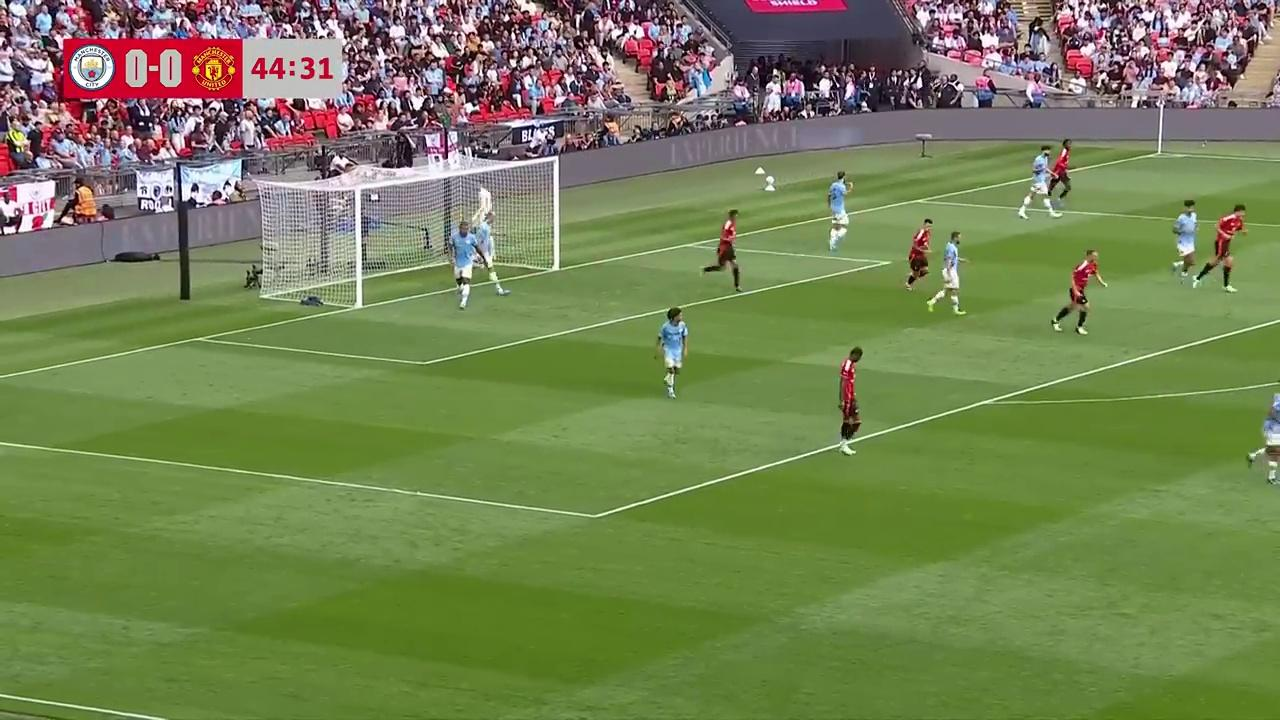player: (1052, 248, 1108, 335), (1201, 204, 1248, 292), (926, 231, 970, 315), (1245, 388, 1280, 483), (655, 307, 689, 398), (476, 210, 508, 301), (704, 211, 741, 288), (837, 347, 862, 455), (1017, 156, 1059, 219), (448, 214, 474, 310), (1171, 199, 1198, 280), (1047, 131, 1076, 205), (826, 170, 852, 251), (903, 219, 931, 290)
